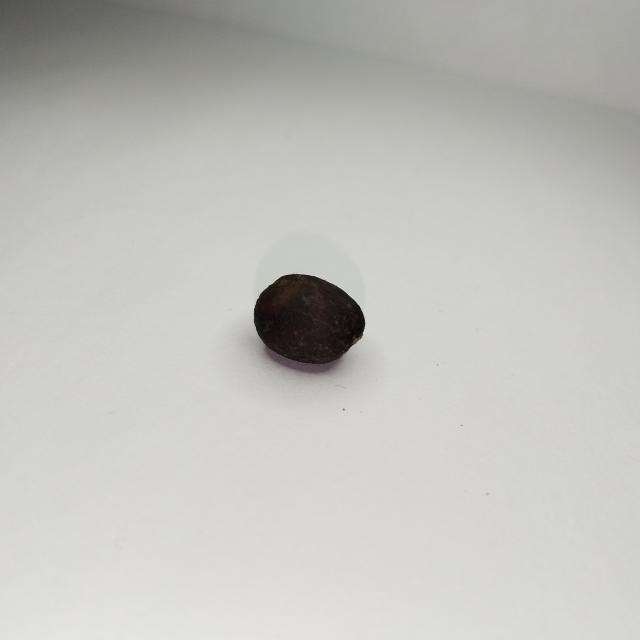Danado: (254, 276, 363, 365)
